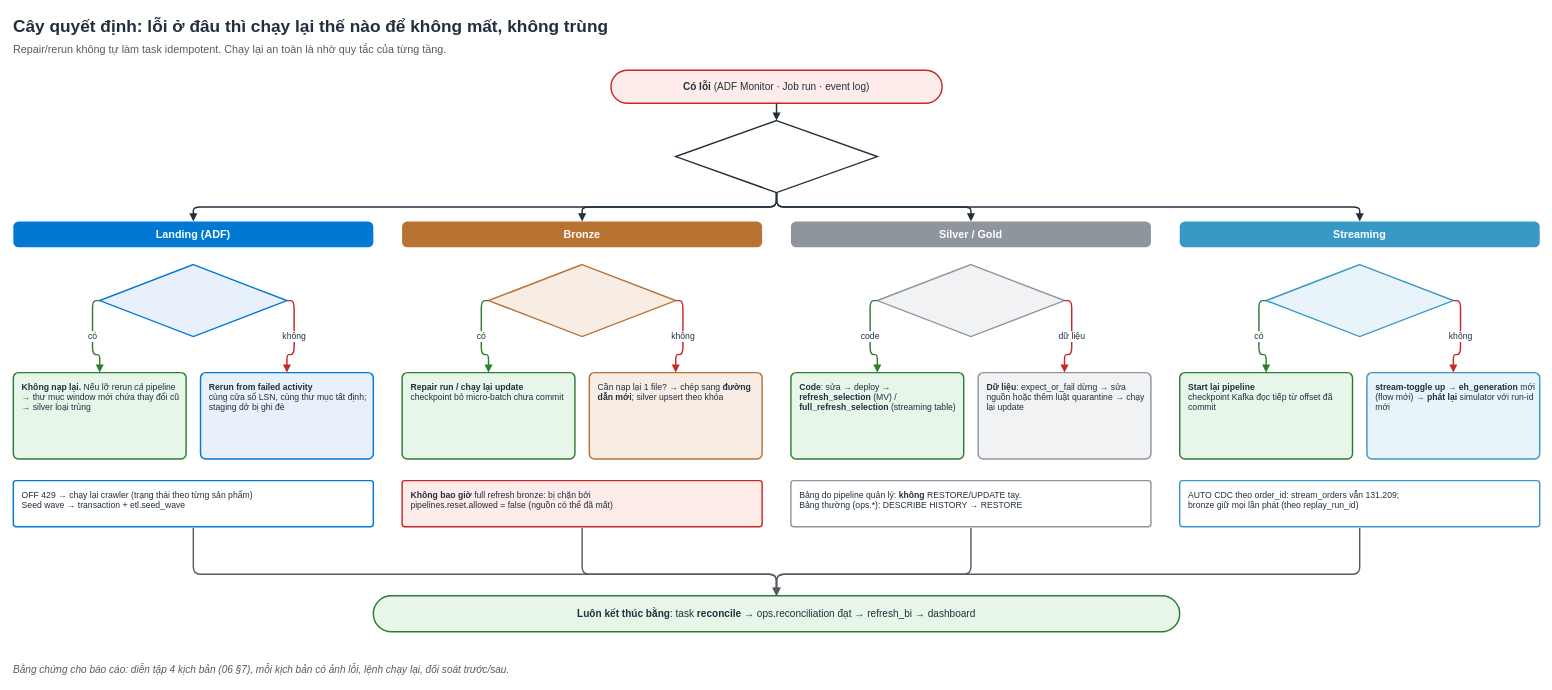
The diagram is 1552 pixels wide and 690 high, and some of its shapes have lost their labels. The shapes that lost their labels are listed below. From the top down, each one's centre as x and y in pixels, then its label:
the point at 776,156: Lỗi ở tầng nào?
the point at 193,300: Mốc đã tăng? (_SUCCESS / watermark)
the point at 581,300: Update dừng giữa chừng?
the point at 970,300: Do code hay do dữ liệu ?
the point at 1359,300: Event Hubs còn giữ sự kiện?
